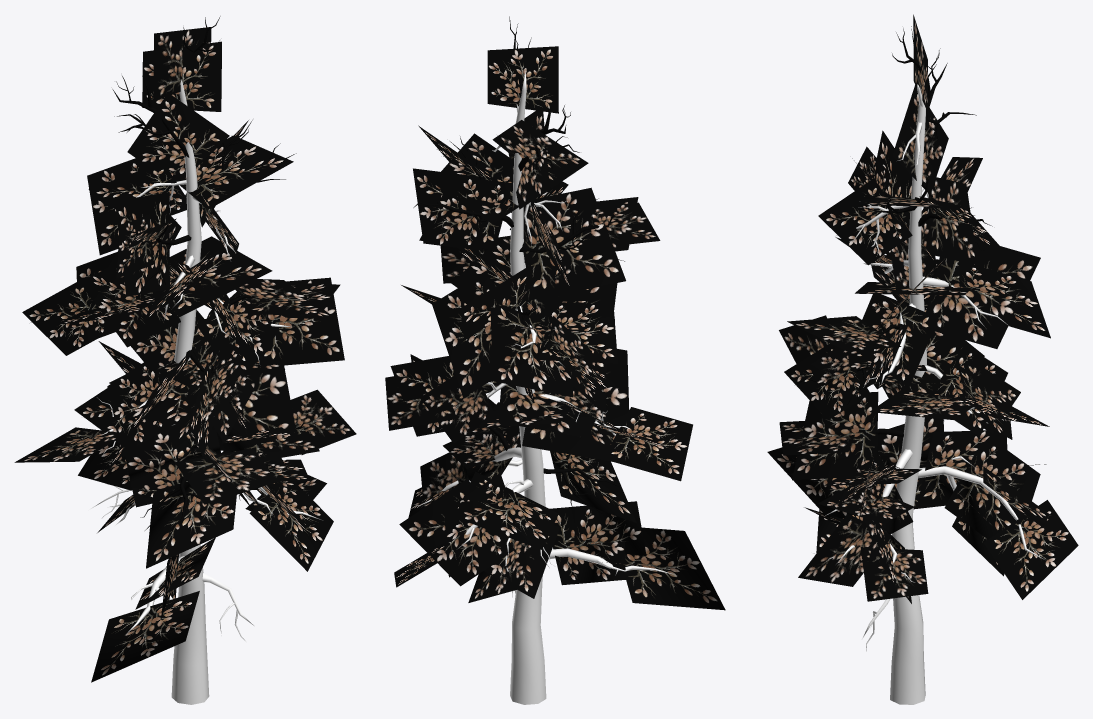
File: SM_PineLeafySnow01.fbx
The picture shows the model from 3 angles, left to right: view 1: azimuth 30°, elevation 25°; view 2: azimuth 150°, elevation 25°; view 3: azimuth 270°, elevation 25°; orthographic projection.
Visible parts, largest first — view 1: SM_PineLeafySnow01_LOD0; view 2: SM_PineLeafySnow01_LOD0; view 3: SM_PineLeafySnow01_LOD0.
Part boxes in pixels (x1,y1,x2,y2): SM_PineLeafySnow01_LOD0: [14, 16, 356, 704]; SM_PineLeafySnow01_LOD0: [385, 16, 725, 704]; SM_PineLeafySnow01_LOD0: [767, 14, 1078, 704].
Bounding box in the file's own units: 671 × 1438 × 623.
